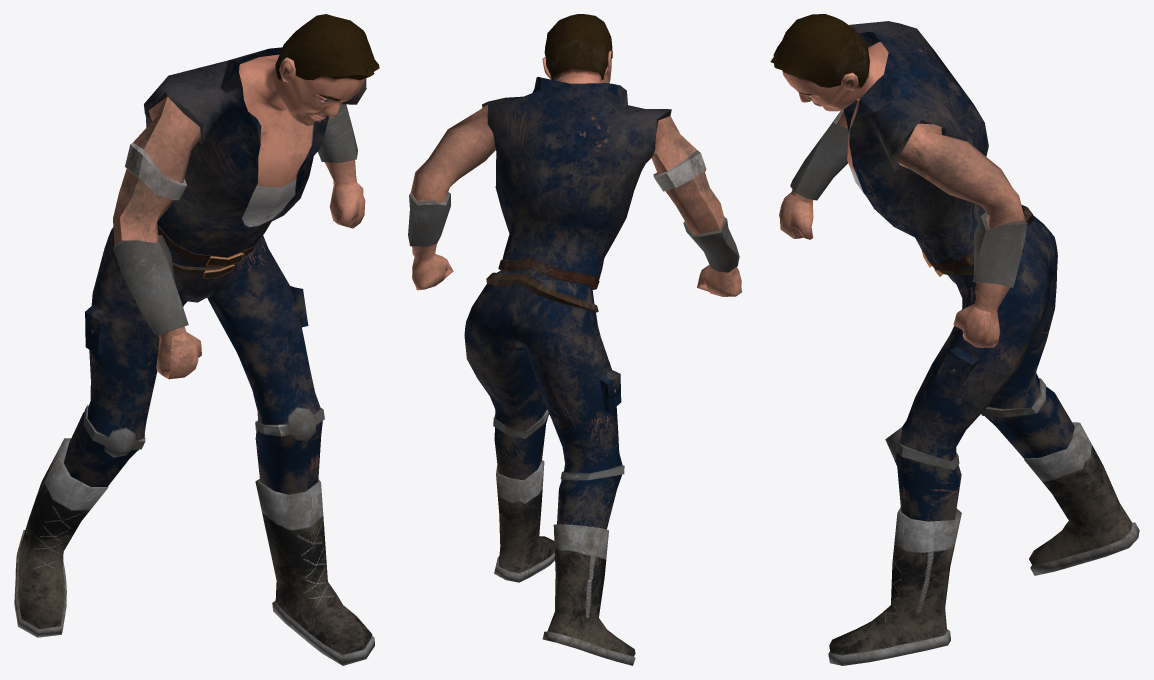
The model's file is Anim_especial_jugador.0035.obj.
3 renders of one model, left to right at view 1: azimuth 30°, elevation 25°; view 2: azimuth 150°, elevation 25°; view 3: azimuth 270°, elevation 25°, orthographic. The views are drawn at different scales.
Parts seen in each view (by area): view 1: polySurface1; view 2: polySurface1; view 3: polySurface1.
Boxes of the visible parts, bbox=[...] form: polySurface1: bbox=[14, 14, 379, 665]; polySurface1: bbox=[408, 14, 741, 665]; polySurface1: bbox=[770, 14, 1139, 665].
Bounding box in the file's own units: 4.35 × 8.79 × 4.66.
